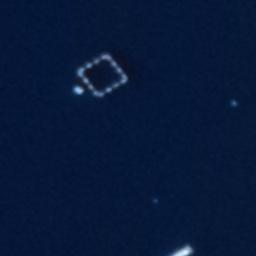square_solid: (73, 48, 132, 97)
